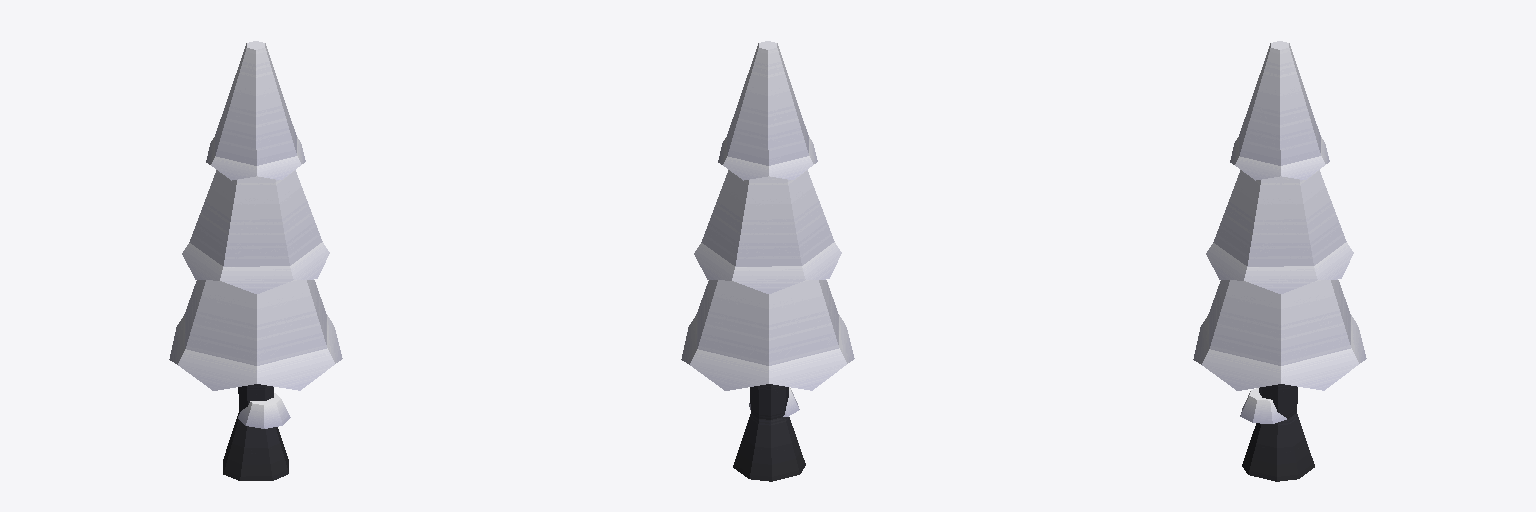
3 renders of one model, left to right at view 1: azimuth 30°, elevation 25°; view 2: azimuth 150°, elevation 25°; view 3: azimuth 270°, elevation 25°, orthographic.
Visible parts, largest first — view 1: tree.041; view 2: tree.041; view 3: tree.041.
Boxes of the visible parts, box(x1,y1,x2,y2) form: tree.041: box(169, 41, 342, 480); tree.041: box(681, 41, 854, 481); tree.041: box(1193, 41, 1366, 481).
Size of the model in its own units: 1.36 by 3.47 by 1.3.
Materials: 1 (1 with a texture image).